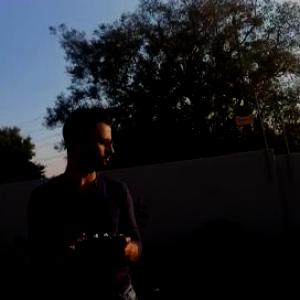follow: (17, 100, 146, 299)
